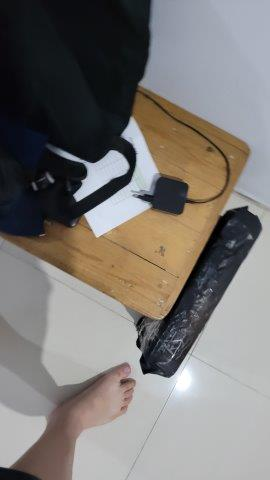kertas: (50, 114, 162, 240)
